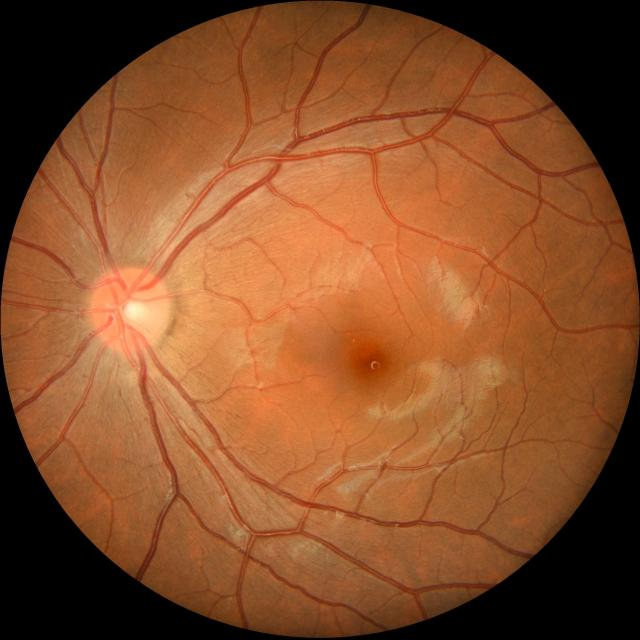OC: (120, 294, 152, 328)
OD: (87, 266, 169, 354)
